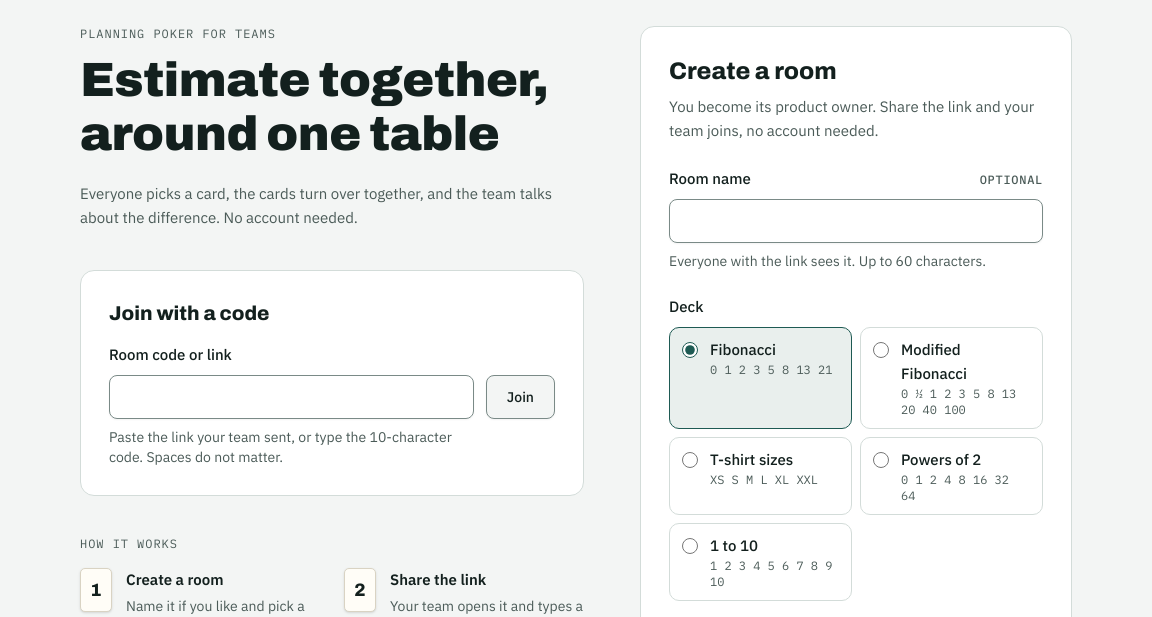
Scenario: app shell › says why a room could not be created, keeps the form and the focus
Step 1. Type "Sprint" into the field labelled "Room name Optional" → (856, 221), box [669,199,1043,243]
(page scrolled)
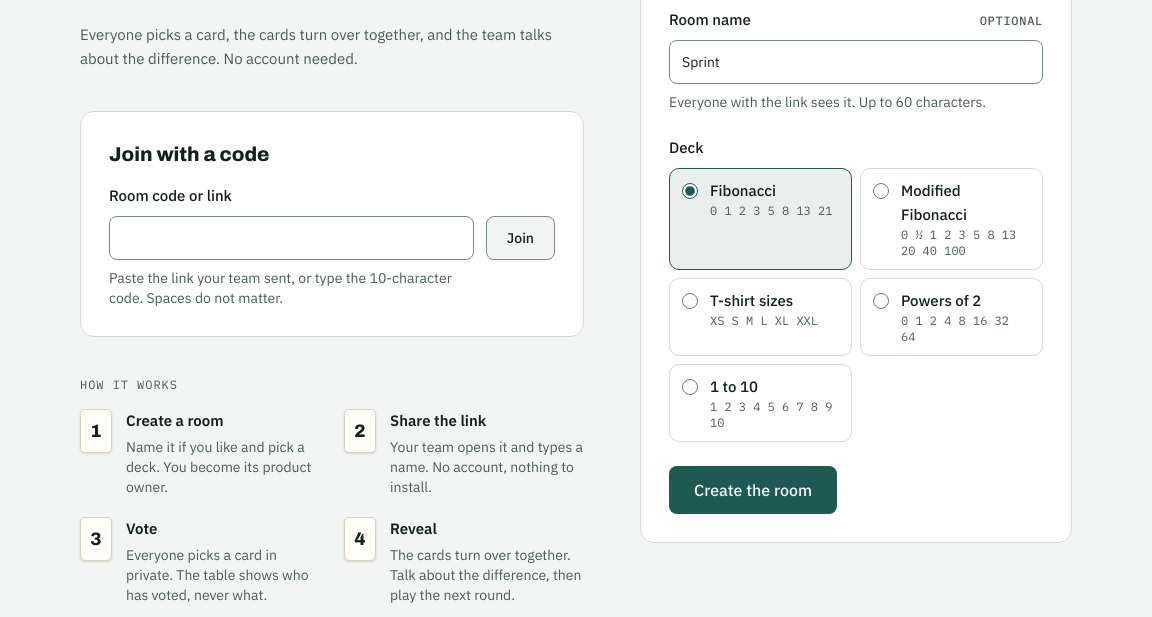
Step 2. Click the button "Create the room" → (753, 490), box [669,466,837,514]
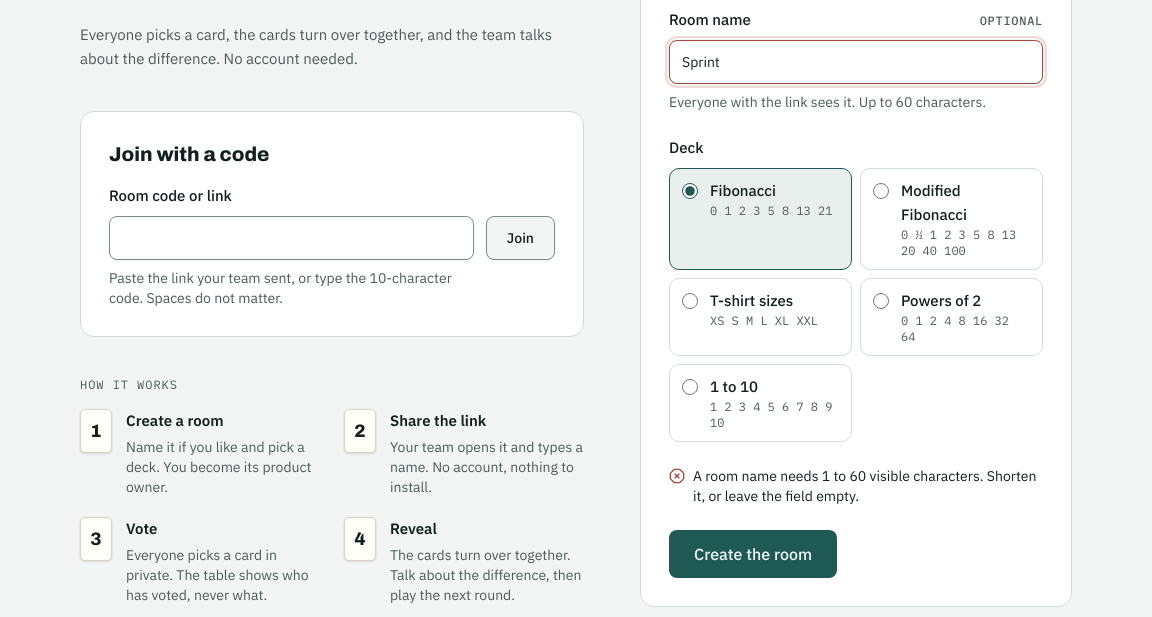
Expected: the button "Create the room" is enabled, [669,530,837,578]
Result: the message shows "A room name needs 1 to 60 visible characters. Shorten it, or leave the field empty." at [693,467,1036,505]
